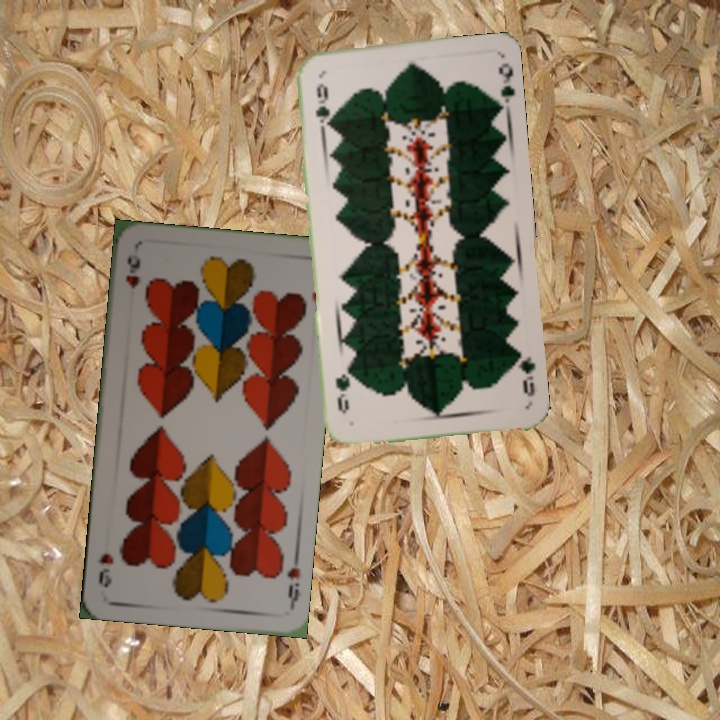G9: (511, 347, 538, 399), (312, 79, 332, 131)
H9: (283, 551, 303, 611), (121, 251, 143, 291)
